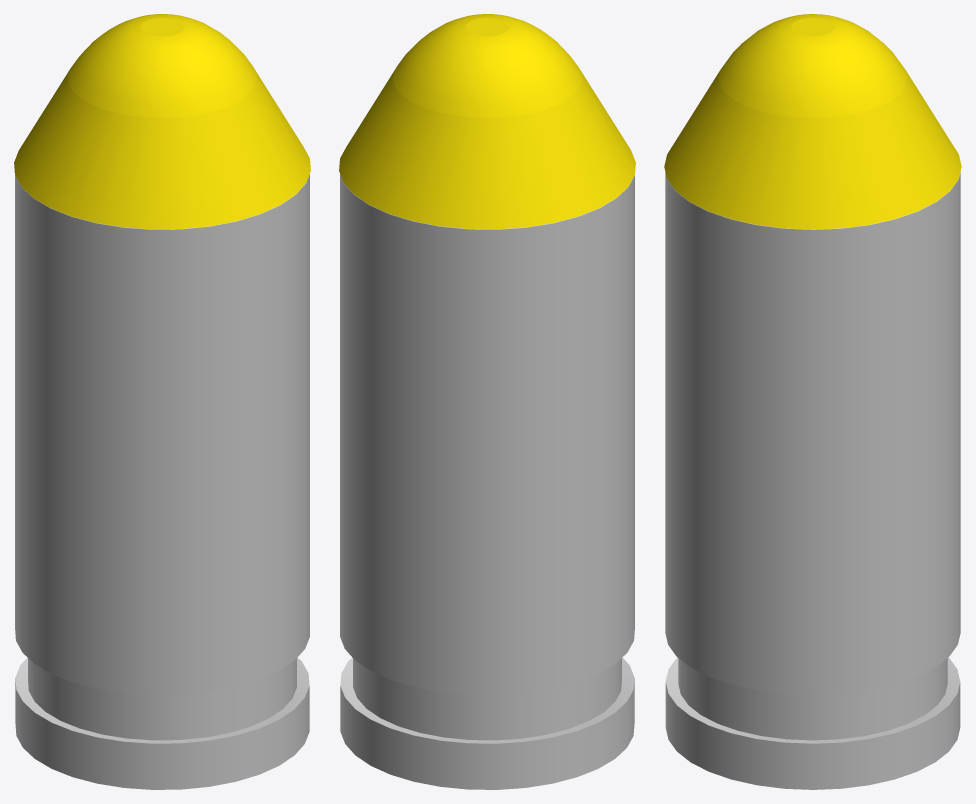
File: bullet.fbx
The picture shows the model from 3 angles, left to right: view 1: azimuth 30°, elevation 25°; view 2: azimuth 150°, elevation 25°; view 3: azimuth 270°, elevation 25°; orthographic projection.
Parts seen in each view (by area): view 1: Cylinder, Cylinder.001; view 2: Cylinder, Cylinder.001; view 3: Cylinder, Cylinder.001.
Boxes of the visible parts, x1,y1,x2,y2 form: Cylinder: [15, 172, 310, 789]; Cylinder.001: [14, 14, 310, 229]; Cylinder: [339, 172, 634, 789]; Cylinder.001: [339, 14, 635, 229]; Cylinder: [665, 172, 960, 789]; Cylinder.001: [664, 14, 961, 229].
Bounding box in the file's own units: 201 × 523 × 201.
